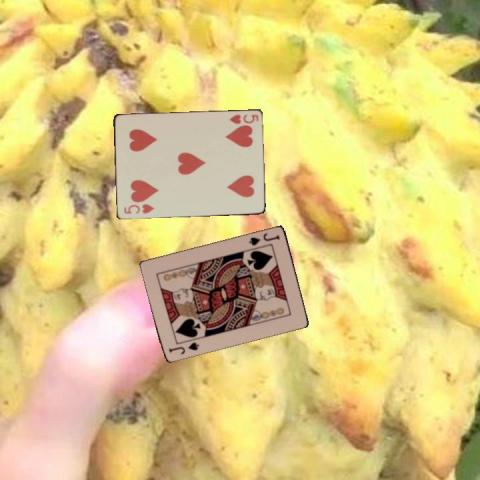5h: (121, 202, 155, 216), (226, 112, 260, 126)
Js: (246, 230, 281, 247), (166, 339, 201, 355)
